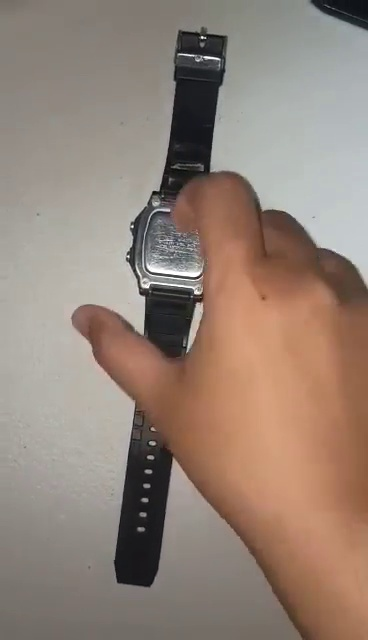watch: (112, 25, 229, 595)
